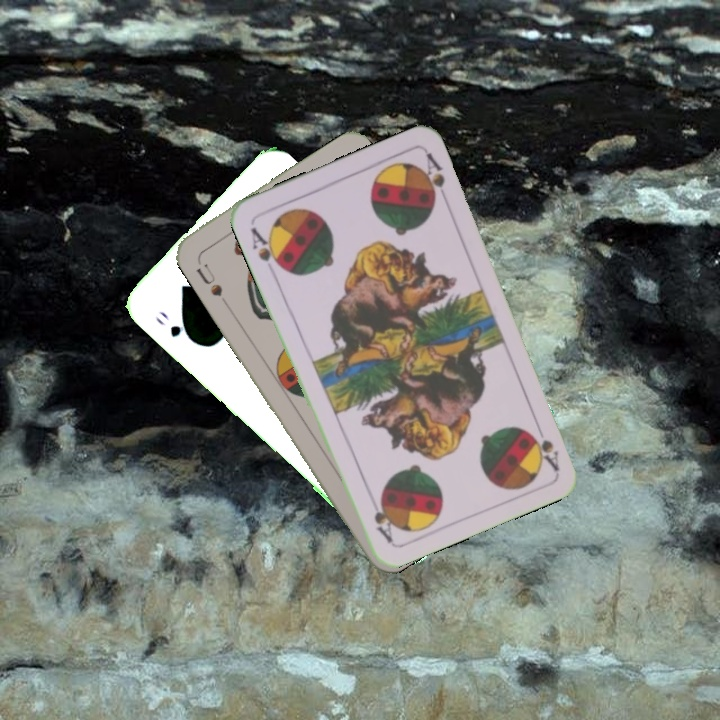GO: (151, 306, 197, 345)
SA: (246, 223, 286, 277), (528, 416, 562, 473)
SU: (192, 254, 226, 300)
